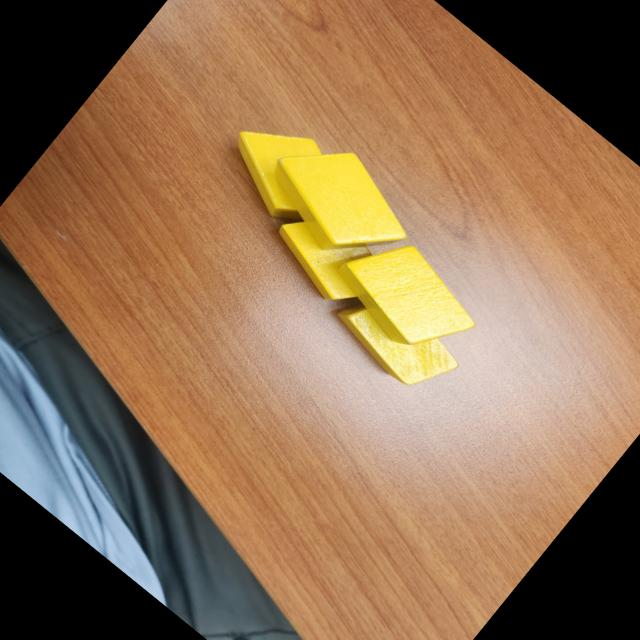yellow: (255, 122, 428, 288), (324, 218, 492, 378), (324, 272, 468, 407), (210, 100, 347, 234), (262, 192, 394, 318)
